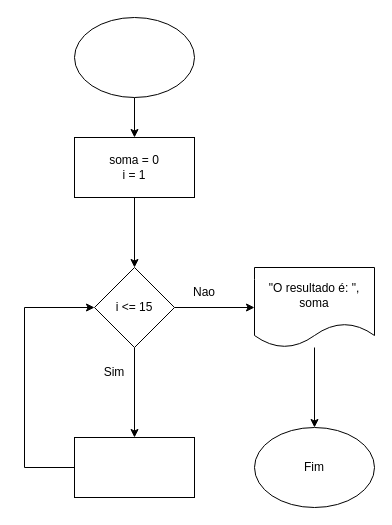
The diagram is 392 pixels wide and 525 high, and some of its shapes have lost their labels. Here are the shapes that lost their labels. From the top down, the centre of each, then its label:
At pixel 134 57: "Inicio".
At pixel 134 467: "soma += i i ++".
